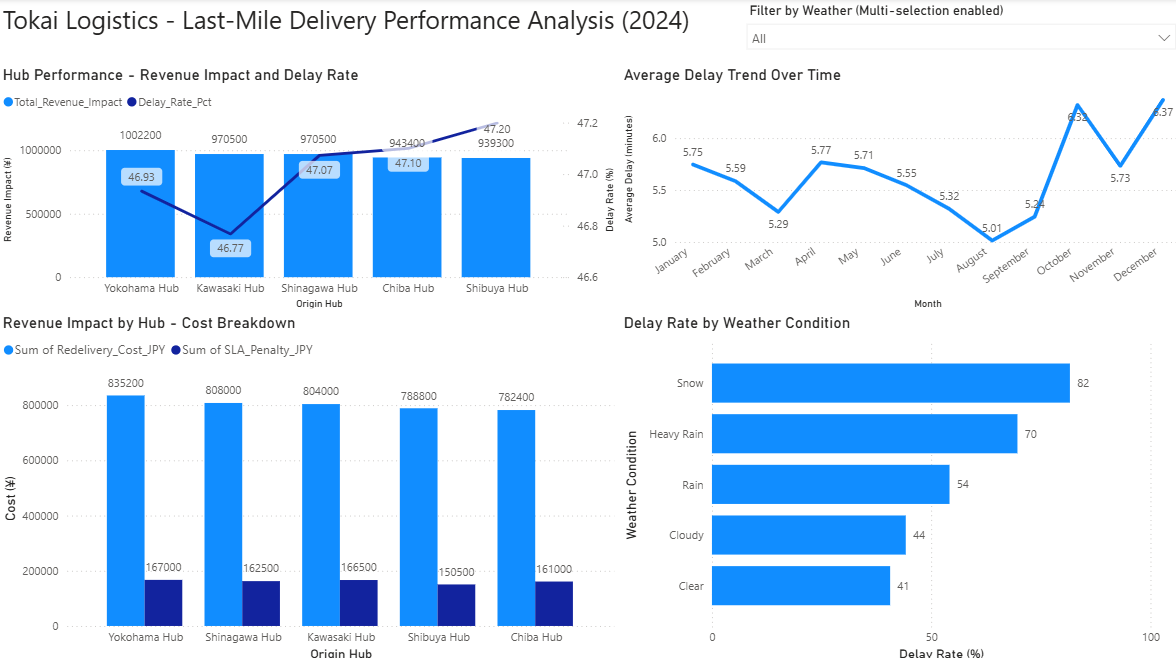

The page's visual inventory and layout, read from the dashboard file:
{"tool":"powerbi","page":{"name":"Tokai Logistics - Delivery Performance","canvas":[1280,720],"ordinal":0},"visuals":[{"type":"textbox","box":[0,0,798.3,61.5],"z":0},{"type":"lineStackedColumnComboChart","title":"Hub Performance - Revenue Impact and Delay Rate","fields":{"Category":["deliveries.Origin_Hub"],"Y":["deliveries.Total_Revenue_Impact"],"Y2":["deliveries.Delay_Rate_Pct"]},"box":[0,72.9,670.4,267.2],"z":1},{"type":"lineChart","title":"Average Delay Trend Over Time","fields":{"Category":["deliveries.Scheduled_Delivery_DateTime.Variation.Date Hierarchy.Month"],"Y":["deliveries.Avg_Delay_Minutes"]},"box":[670.4,72.9,610.4,267.2],"z":2},{"type":"clusteredColumnChart","title":"Revenue Impact by Hub - Cost Breakdown","fields":{"Category":["deliveries.Origin_Hub"],"Y":["Sum(deliveries.Redelivery_Cost_JPY)","Sum(deliveries.SLA_Penalty_JPY)"]},"box":[0,340,670.4,380.5],"z":3},{"type":"clusteredBarChart","title":"Delay Rate by Weather Condition","fields":{"Category":["deliveries.Weather_Condition"],"Y":["deliveries.Delay_Rate_Pct"]},"box":[670.4,340,610.4,380.5],"z":4},{"type":"slicer","fields":{"Values":["deliveries.Weather_Condition"]},"box":[797.6,0,483.1,61.7],"z":5}]}

Visuals, with their boxes in screenshot pixels (x1, y1, x2, y2), scaled from the page's 1280x720 canvas onto the 1176x658 screenshot:
textbox: box=[0, 0, 733, 56]
"Hub Performance - Revenue Impact and Delay Rate" lineStackedColumnComboChart: box=[0, 67, 616, 311]
"Average Delay Trend Over Time" lineChart: box=[616, 67, 1175, 311]
"Revenue Impact by Hub - Cost Breakdown" clusteredColumnChart: box=[0, 311, 616, 657]
"Delay Rate by Weather Condition" clusteredBarChart: box=[616, 311, 1175, 657]
slicer - deliveries.Weather_Condition: box=[733, 0, 1175, 56]
